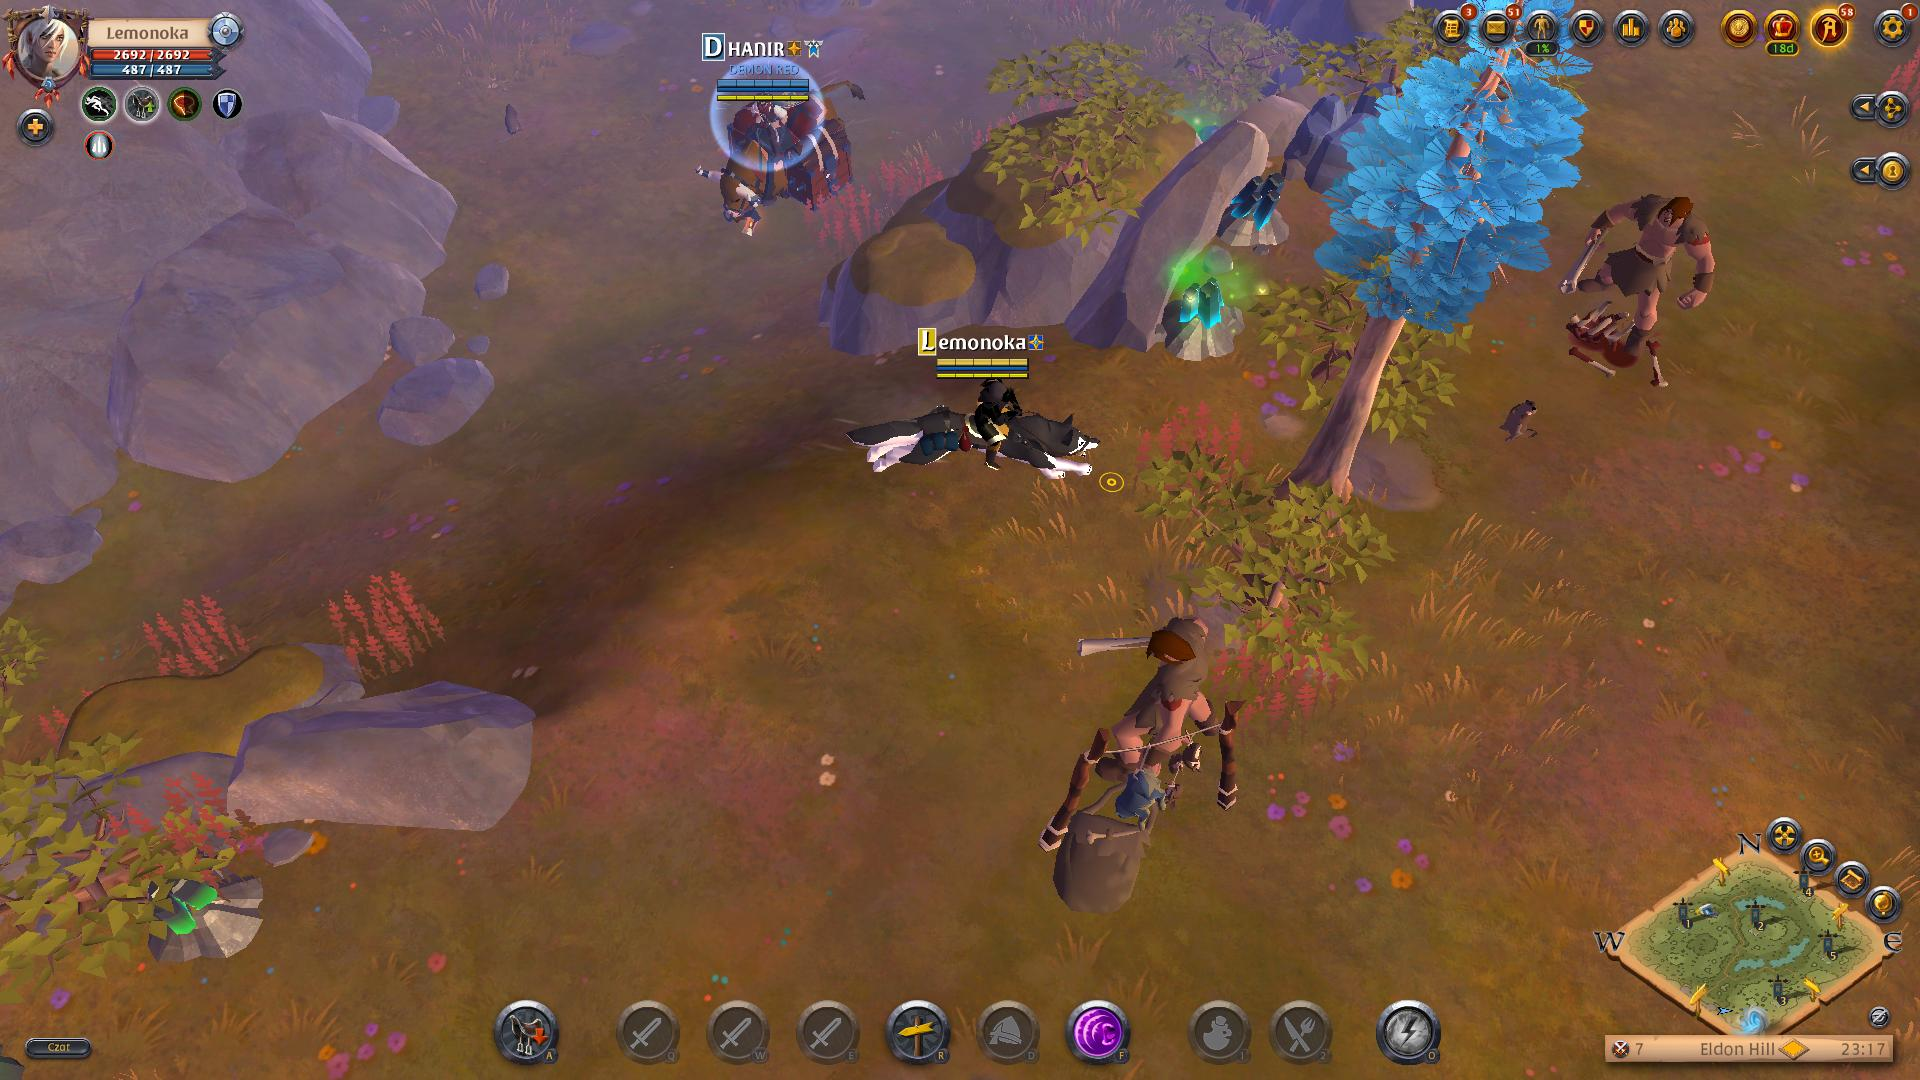ore tier 3: (135, 864, 272, 968)
ore tier 4: (1151, 268, 1250, 364), (1218, 160, 1296, 255)
wood tier 4: (1325, 0, 1596, 347)
